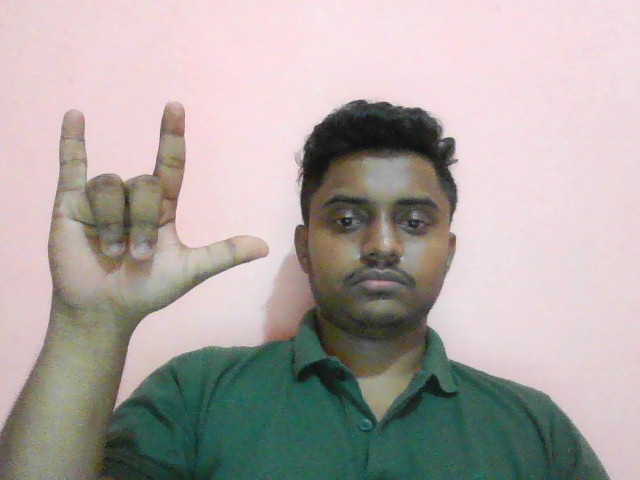I Love You: (41, 97, 273, 338)
